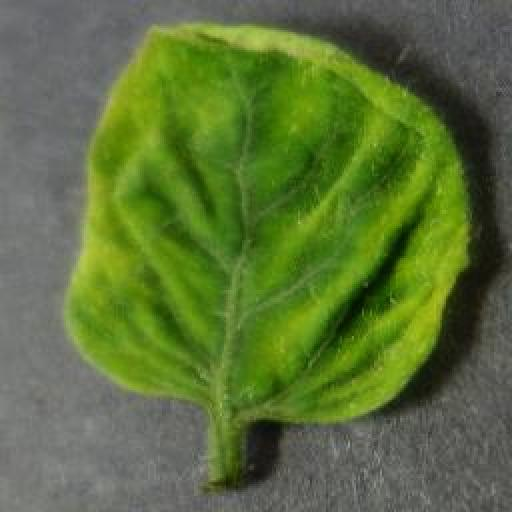disease_tomato: (63, 24, 473, 422)
